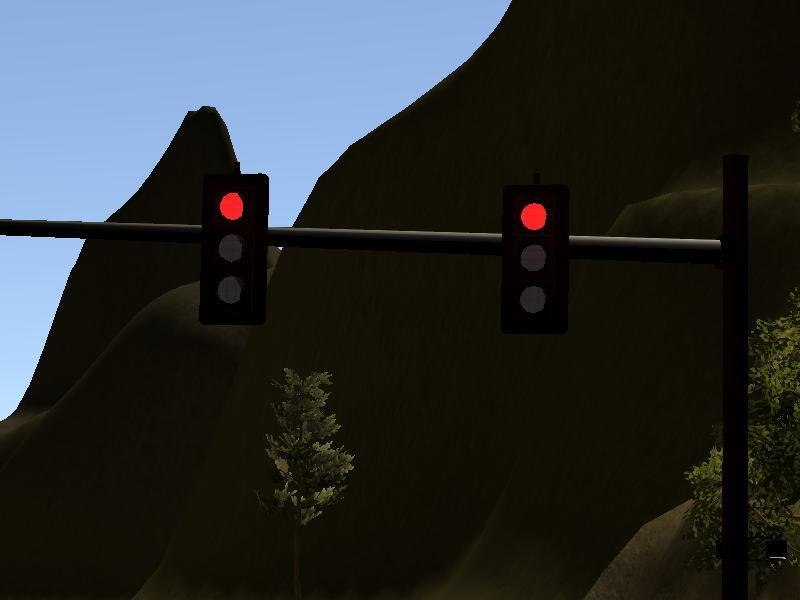Red: (200, 174, 267, 325), (501, 183, 568, 334)
